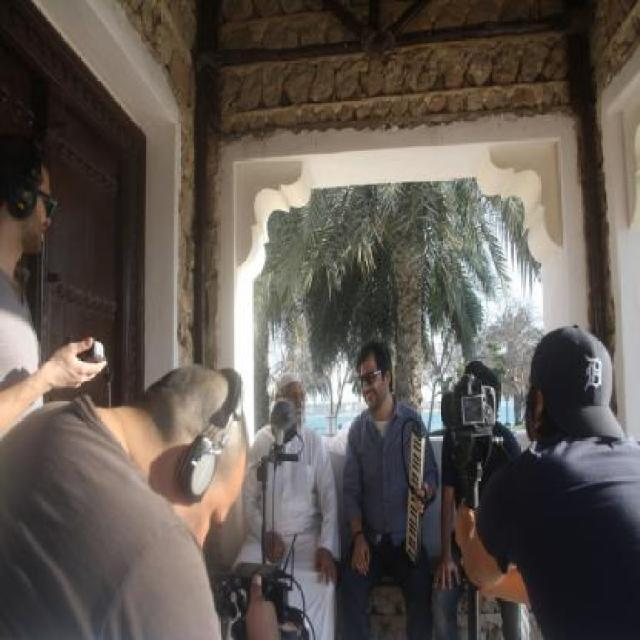earphone: (186, 353, 242, 530), (10, 136, 48, 232)
